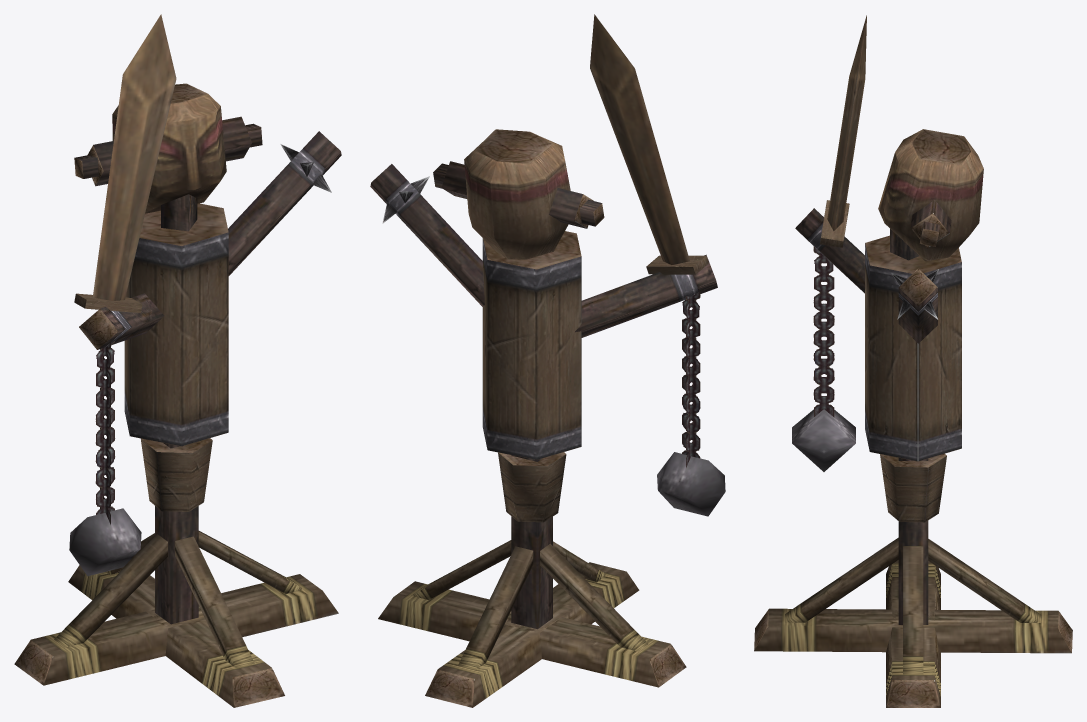
Rendered from muren_jx_02.fbx.
The picture shows the model from 3 angles, left to right: view 1: azimuth 30°, elevation 25°; view 2: azimuth 150°, elevation 25°; view 3: azimuth 270°, elevation 25°; orthographic projection. The views are drawn at different scales.
Parts seen in each view (by area): view 1: muren_jx_02; view 2: muren_jx_02; view 3: muren_jx_02.
Boxes of the visible parts, bbox=[...] form: muren_jx_02: bbox=[14, 14, 341, 707]; muren_jx_02: bbox=[370, 14, 725, 707]; muren_jx_02: bbox=[754, 15, 1072, 707].
Bounding box in the file's own units: 120 × 232 × 110.
